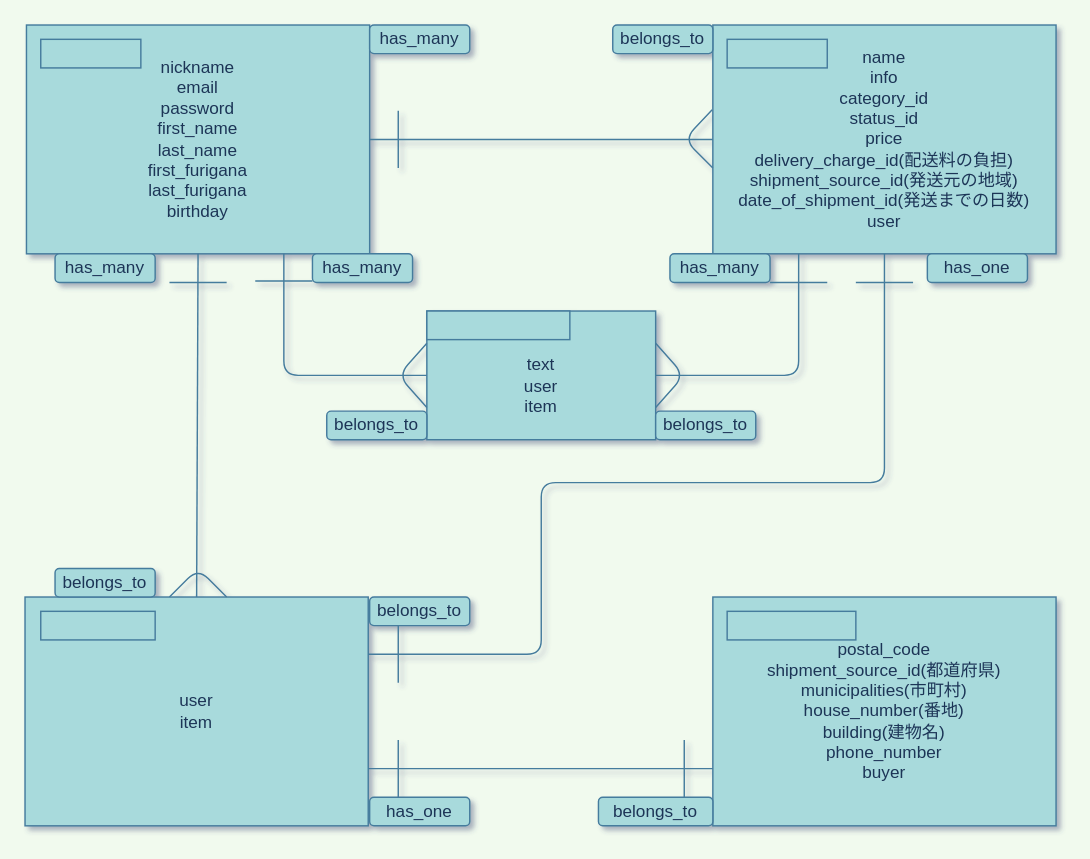
Image size: 1090x859. Some labels were removed from this diagram. Each missing label, with the centre of its shape:
"address table" belongs at (791,625).
"buyers table" belongs at (97,625).
"comments table" belongs at (497,325).
"items table" belongs at (776,53).
"users table" belongs at (90,53).
